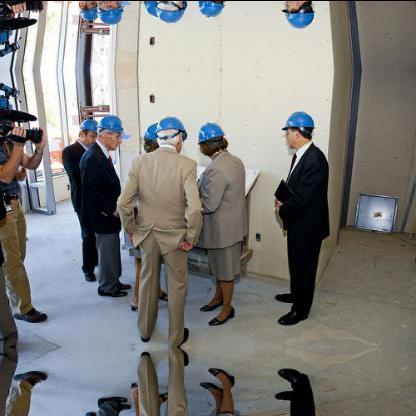Helmet: (280, 108, 312, 150), (156, 113, 186, 151), (196, 120, 226, 156), (279, 0, 314, 29), (96, 112, 124, 148), (96, 0, 125, 25), (76, 115, 100, 145), (156, 0, 186, 24), (142, 119, 162, 153), (76, 0, 100, 22), (196, 0, 227, 17), (141, 0, 162, 18)
